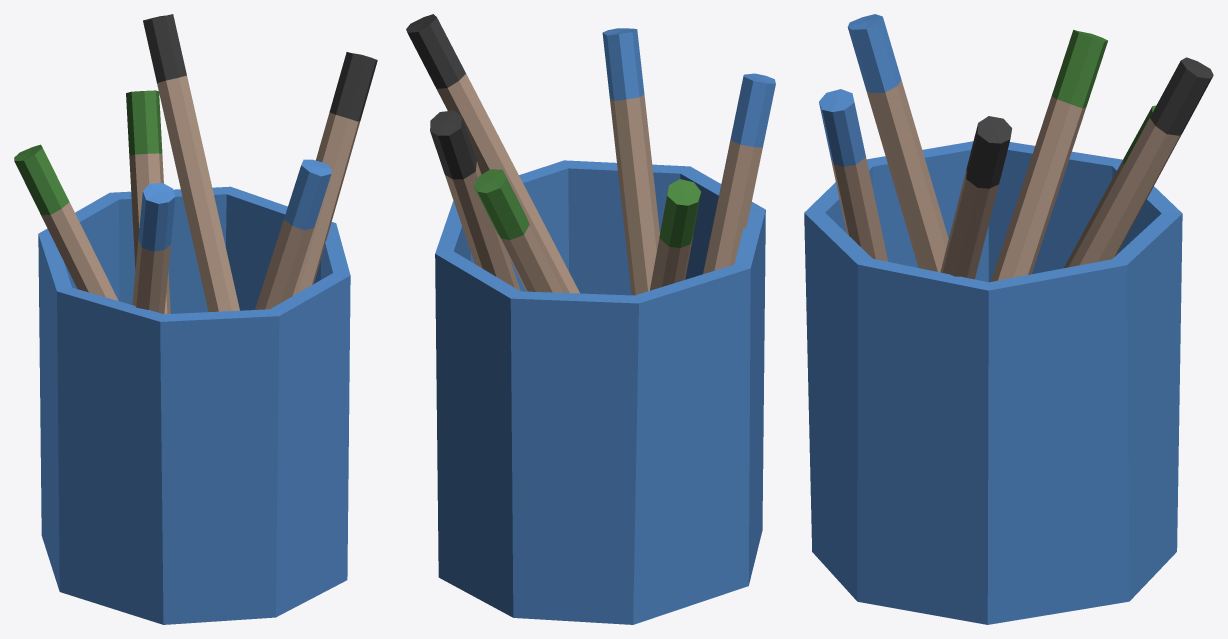
Rendered from Pens_5.fbx.
The picture shows the model from 3 angles, left to right: view 1: azimuth 30°, elevation 25°; view 2: azimuth 150°, elevation 25°; view 3: azimuth 270°, elevation 25°; orthographic projection. The views are drawn at different scales.
Visible parts, largest first — view 1: Pens_5; view 2: Pens_5; view 3: Pens_5.
Part boxes in pixels (left/top/right/bottom): Pens_5: left=14, top=14, right=377, bottom=624; Pens_5: left=406, top=14, right=775, bottom=624; Pens_5: left=804, top=14, right=1213, bottom=624.
Bounding box in the file's own units: 22.09 × 21.88 × 31.07.
